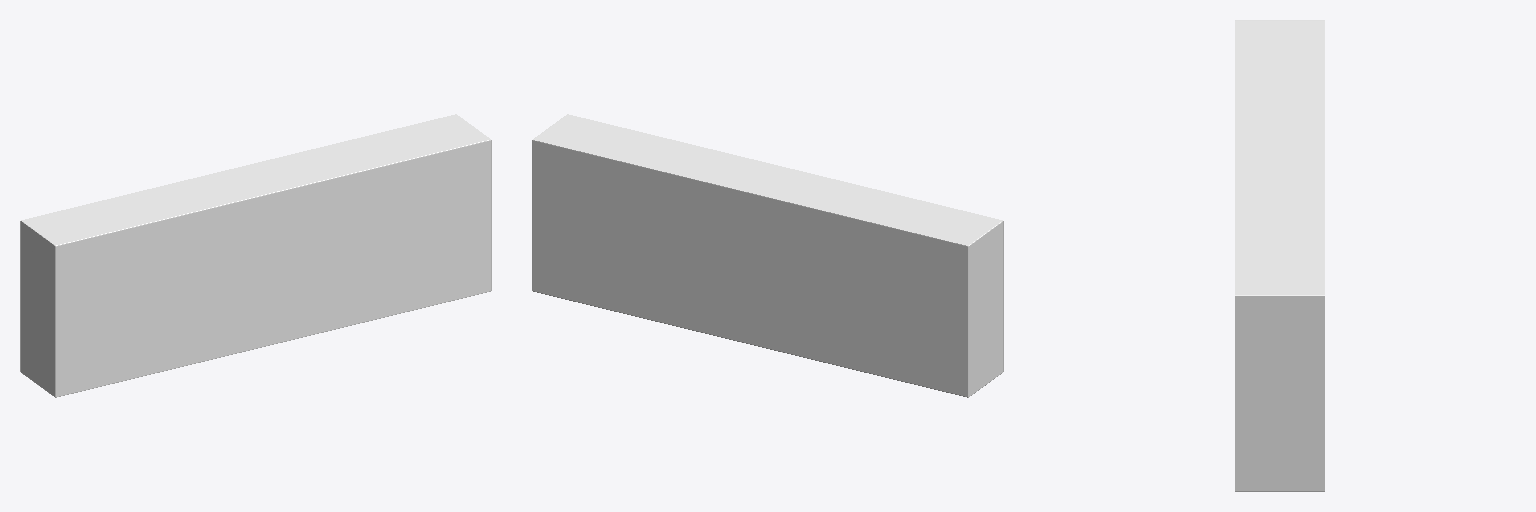
The robot description file, URDF, robot "textured_simple.urdf":
<?xml version="1.0" ?>
<robot name="textured_simple.urdf">
  <link name="baseLink">
    <inertial>
      <origin rpy="0 0 0" xyz="0 0 0"/>
       <mass value="0.0"/>
       <inertia ixx="0" ixy="0" ixz="0" iyy="0" iyz="0" izz="0"/>
    </inertial>
    <visual>
      <origin rpy="0 0 0" xyz="0 0 0"/>
      <geometry>
        <mesh filename="textured_simple.obj" scale="1.0 1.0 1.0"/>
      </geometry>
      <material name="white">
       <color rgba="1 1 1 1"/>
     </material>
    </visual>
    <collision>
      <origin rpy="0 0 0" xyz="0 0 0"/>
      <geometry>
        <mesh filename="textured_simple.obj" scale="1.0 1.0 1.0"/>
        <!-- You could also specify the collision (for the textured_simple) with a "box" tag: -->
        <!-- <box size=".06 .06 .06"/> -->
      </geometry>
    </collision>
  </link>
</robot>
        

--- Facts derived from the render (not from the file) ---
Views: 3 orthographic renders of the robot side by side, from view 1: azimuth 30°, elevation 25°; view 2: azimuth 150°, elevation 25°; view 3: azimuth 270°, elevation 25°.
Robot: textured_simple.urdf — 1 links, 0 joints (none); root link baseLink; default pose: every joint at zero.
Visible links, largest first — view 1: baseLink; view 2: baseLink; view 3: baseLink.
Boxes of the visible links, x1=… form: baseLink: x1=20, y1=114, x2=491, y2=397; baseLink: x1=532, y1=114, x2=1003, y2=397; baseLink: x1=1235, y1=20, x2=1324, y2=491.
Bounding box of the posed robot: 3 × 0.4186 × 1 m (x, y, z).
1 mesh visuals loaded from 1 distinct referenced files (1 OBJ).